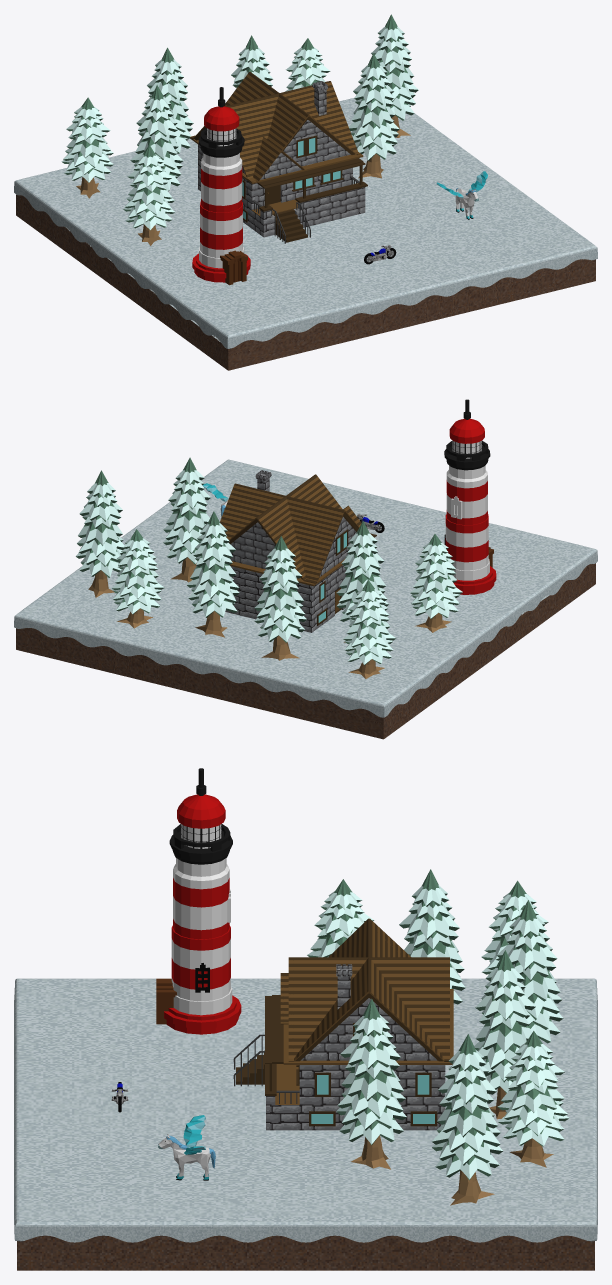
3 views of the same model, one above another, from view 1: azimuth 30°, elevation 25°; view 2: azimuth 150°, elevation 25°; view 3: azimuth 270°, elevation 25° (orthographic). The views are drawn at different scales.
Parts seen in each view (by area): view 1: Cube.003, Cube.586, OBJRANDOM_LIGHTHOUSE, ANIMAL_PEGASO; view 2: Cube.003, Cube.586, OBJRANDOM_LIGHTHOUSE; view 3: Cube.003, Cube.586, OBJRANDOM_LIGHTHOUSE, ANIMAL_PEGASO.
Part boxes in pixels (<box>): Cube.003: <box>14,14,597,370</box>; Cube.586: <box>190,71,367,243</box>; OBJRANDOM_LIGHTHOUSE: <box>192,87,250,285</box>; ANIMAL_PEGASO: <box>436,171,487,219</box>; Cube.003: <box>14,457,597,739</box>; Cube.586: <box>220,470,379,632</box>; OBJRANDOM_LIGHTHOUSE: <box>444,399,496,594</box>; Cube.003: <box>14,869,597,1270</box>; Cube.586: <box>233,918,453,1130</box>; OBJRANDOM_LIGHTHOUSE: <box>156,768,241,1034</box>; ANIMAL_PEGASO: <box>158,1115,215,1180</box>.
Bounding box in the file's own units: 4040 × 2354 × 4040.
31 materials, 4 textured.
